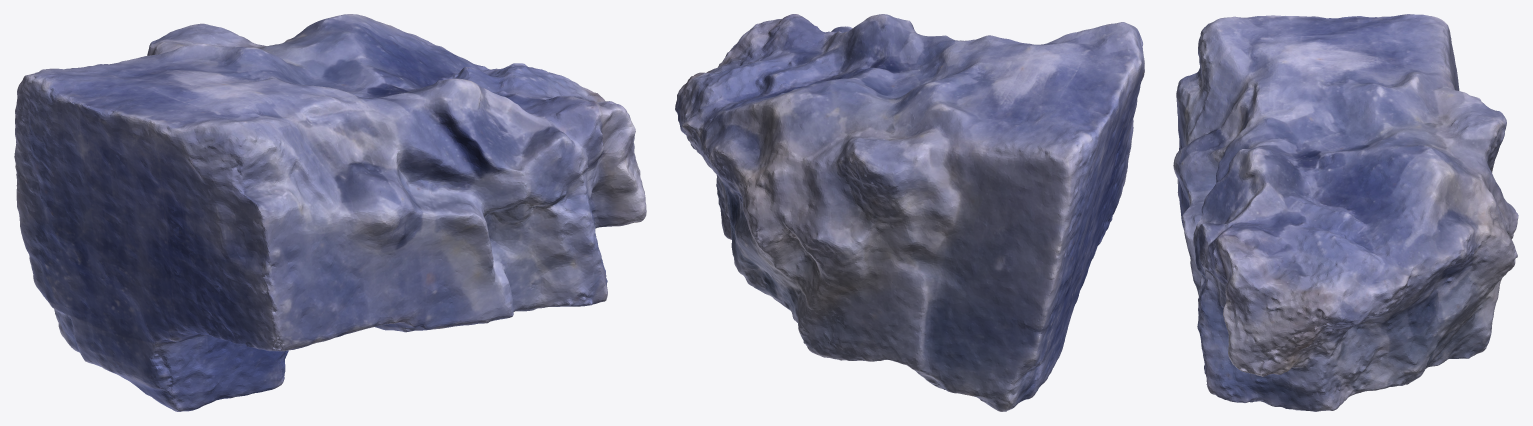
Rendered from mineral_calcite_blue.obj.
3 renders of one model, left to right at view 1: azimuth 30°, elevation 25°; view 2: azimuth 150°, elevation 25°; view 3: azimuth 270°, elevation 25°, orthographic. The views are drawn at different scales.
Parts seen in each view (by area): view 1: Object_0, Object_1; view 2: Object_0, Object_1; view 3: Object_1, Object_0.
Boxes of the visible parts, <box> form: Object_0: <box>14,19,645,411</box>; Object_1: <box>216,14,646,398</box>; Object_0: <box>680,14,1144,411</box>; Object_1: <box>675,14,974,360</box>; Object_1: <box>1174,93,1517,411</box>; Object_0: <box>1173,14,1518,402</box>.
Bounding box in the file's own units: 0.6871 × 0.4519 × 0.4761.
Materials: 1 (1 with a texture image).
